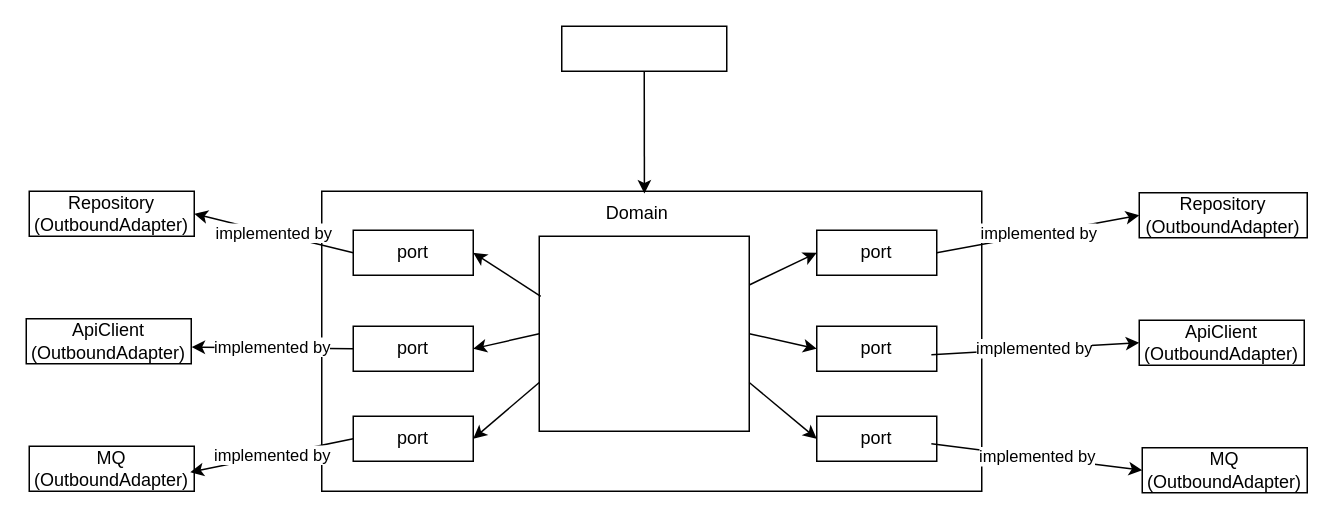
The diagram is 1334 pixels wide and 519 high, and some of its shapes have lost their labels. Here are the shapes that lost their labels. From the top down, the centre of each, then its label:
(643,48): InBoundAdapter
(643,333): Business Logic (Service & Model)
